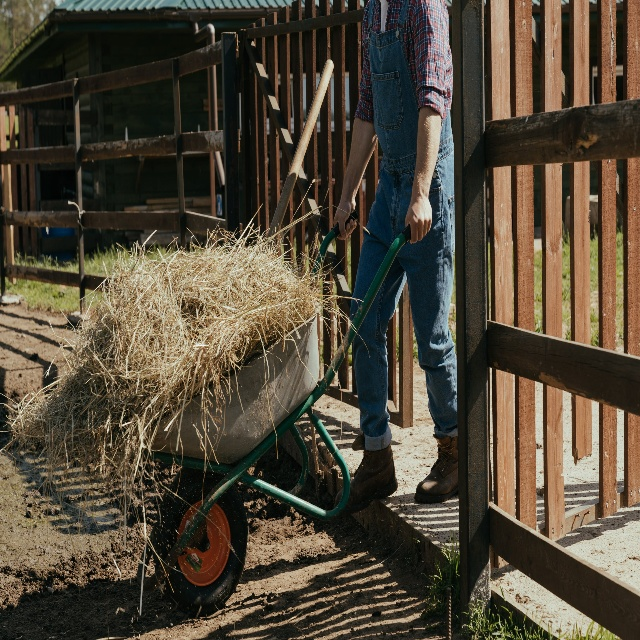Sin_guantes: (404, 194, 433, 244), (331, 196, 358, 241)
